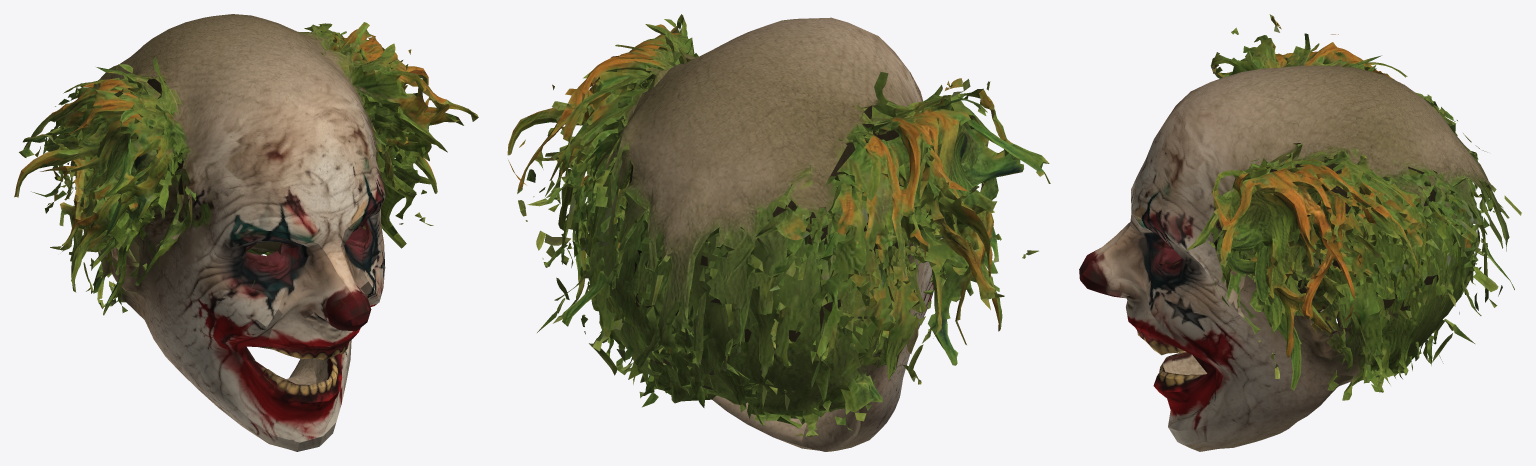
The model's file is palhaco.glb.
3 renders of one model, left to right at view 1: azimuth 30°, elevation 25°; view 2: azimuth 150°, elevation 25°; view 3: azimuth 270°, elevation 25°, orthographic. The views are drawn at different scales.
Parts seen in each view (by area): view 1: Mesh_0; view 2: Mesh_0; view 3: Mesh_0.
Part boxes in pixels (x1=…): Mesh_0: x1=14, y1=14, x2=478, y2=451; Mesh_0: x1=507, y1=14, x2=1050, y2=451; Mesh_0: x1=1079, y1=14, x2=1521, y2=451.
Size of the model in its own units: 1.82 by 1.57 by 1.71.
Materials: 1 (1 with a texture image).
